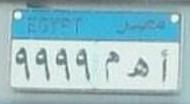9: (74, 48, 93, 80), (14, 47, 29, 81), (36, 48, 50, 82), (56, 48, 70, 81)
alif: (158, 47, 170, 85)
haa: (126, 55, 153, 80)
meem: (102, 50, 123, 82)
